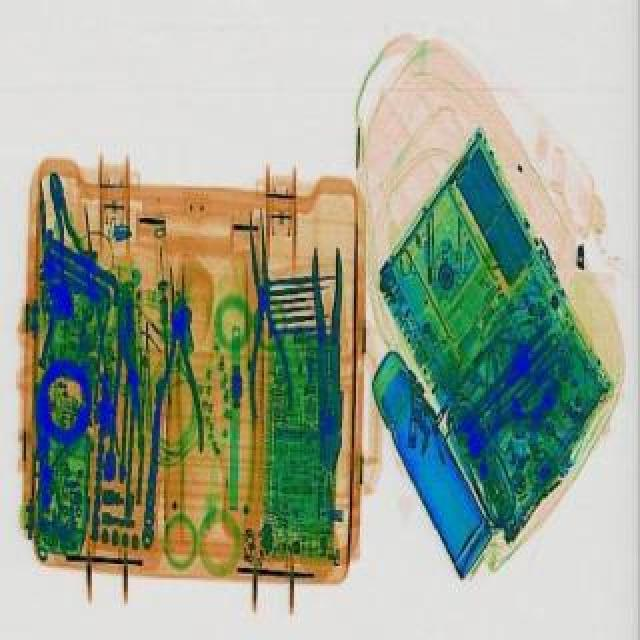wrench: (236, 204, 298, 414), (146, 262, 210, 452), (34, 168, 102, 310), (314, 244, 346, 464)
